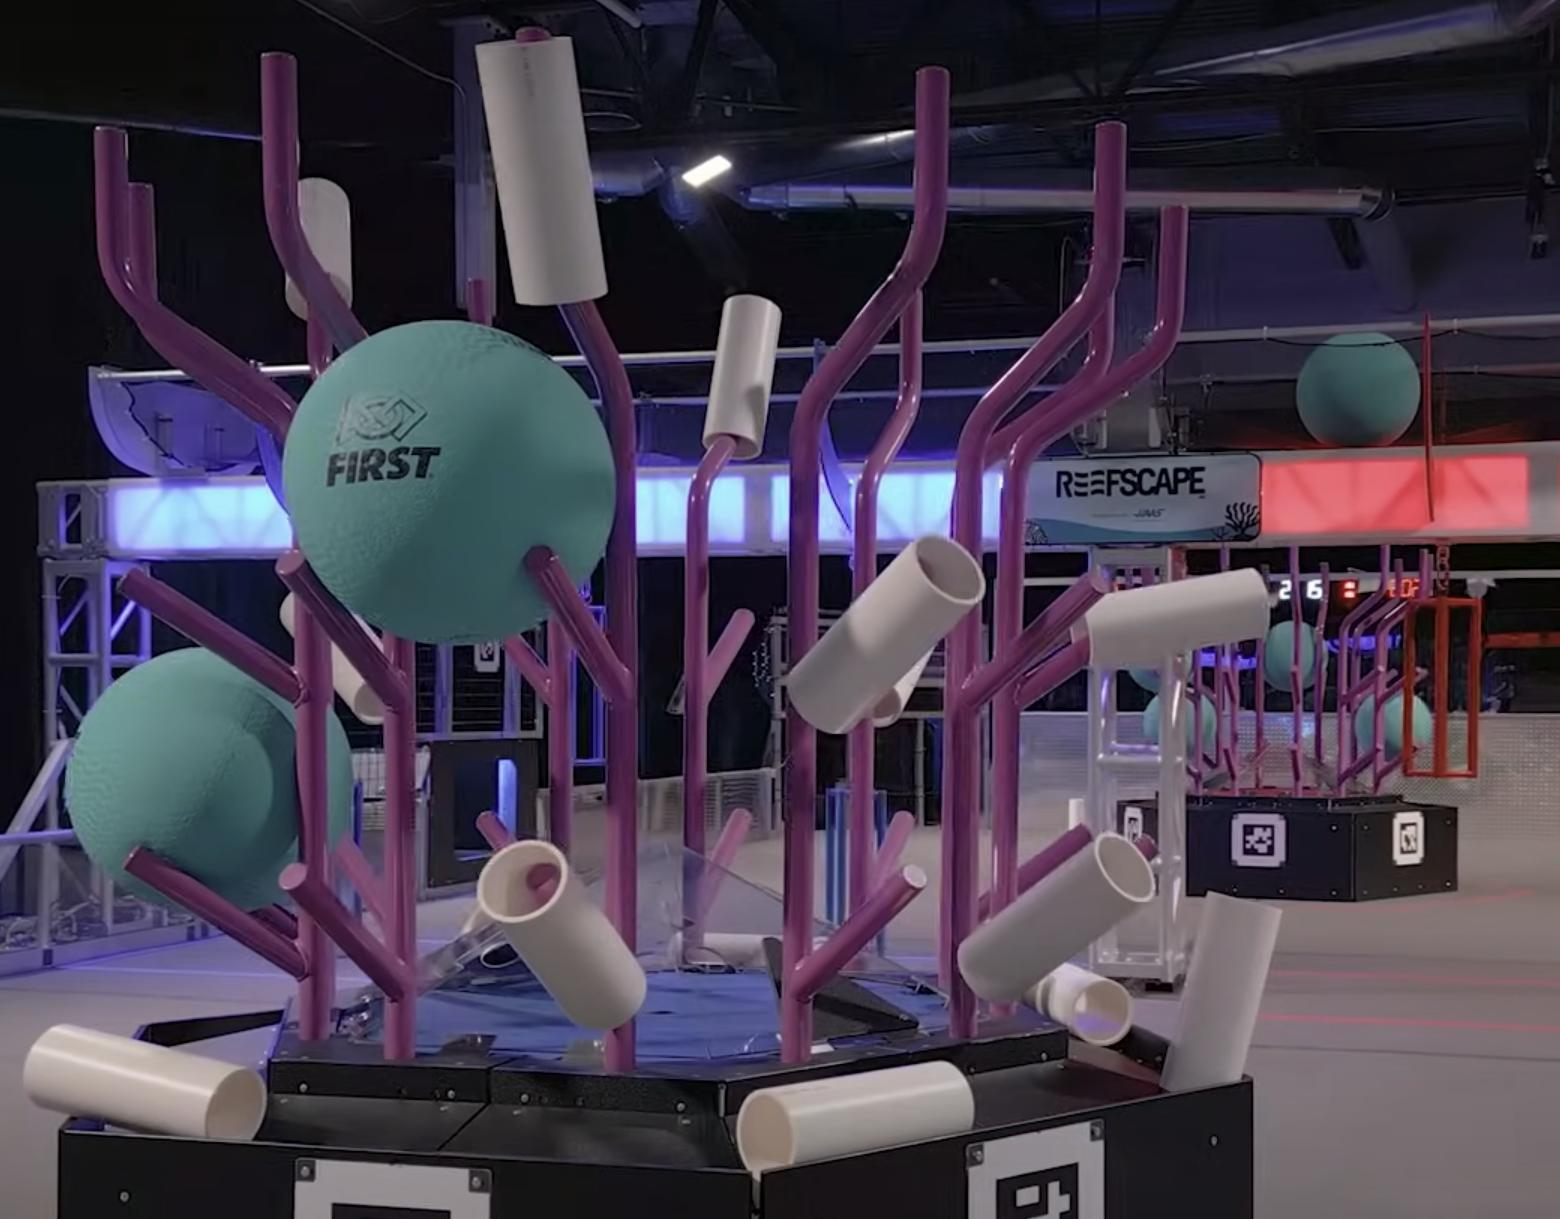algae: (279, 316, 618, 646), (65, 649, 355, 916), (1298, 335, 1422, 447), (1352, 689, 1433, 757), (1145, 689, 1217, 757), (1260, 622, 1326, 692), (1129, 651, 1193, 691)
coral: (785, 534, 984, 741), (476, 37, 608, 305), (957, 832, 1156, 1004), (480, 841, 647, 1029), (22, 1025, 266, 1143), (736, 1062, 975, 1181), (1161, 891, 1283, 1092), (1067, 567, 1269, 681), (280, 591, 386, 723), (703, 294, 783, 461), (1021, 963, 1131, 1046), (285, 178, 351, 311)
